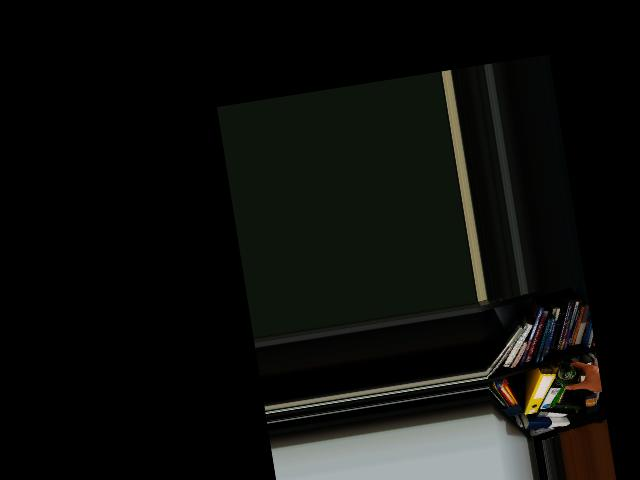beer: (553, 360, 580, 389)
